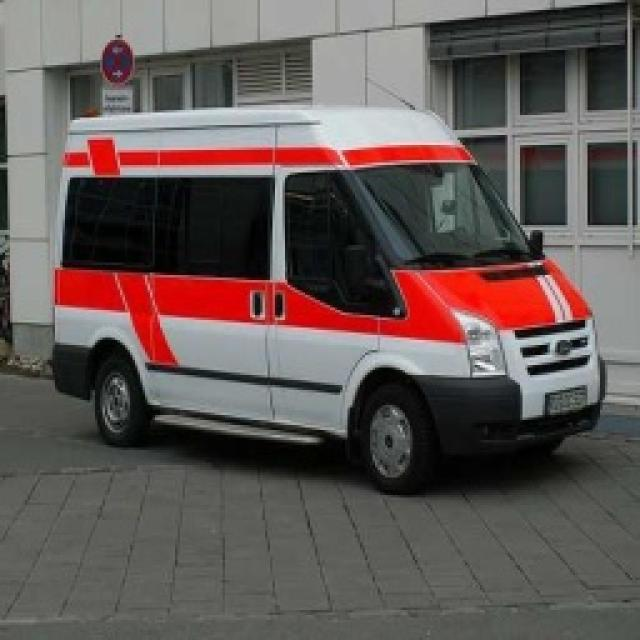emergency-vehicle: (44, 105, 596, 500)
